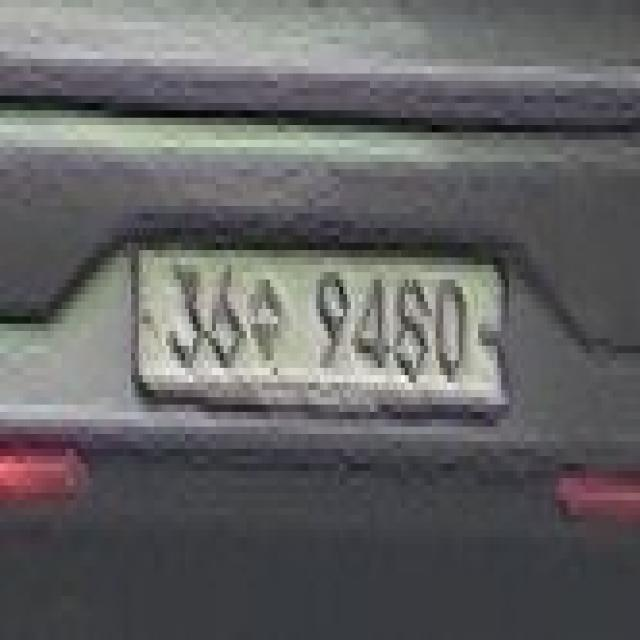0: (432, 272, 466, 383)
3: (170, 257, 204, 368)
4: (351, 272, 389, 375)
6: (208, 265, 239, 368)
8: (389, 272, 428, 383)
9: (312, 265, 347, 375)
license_plate: (131, 228, 509, 419)
su: (243, 265, 285, 368)
